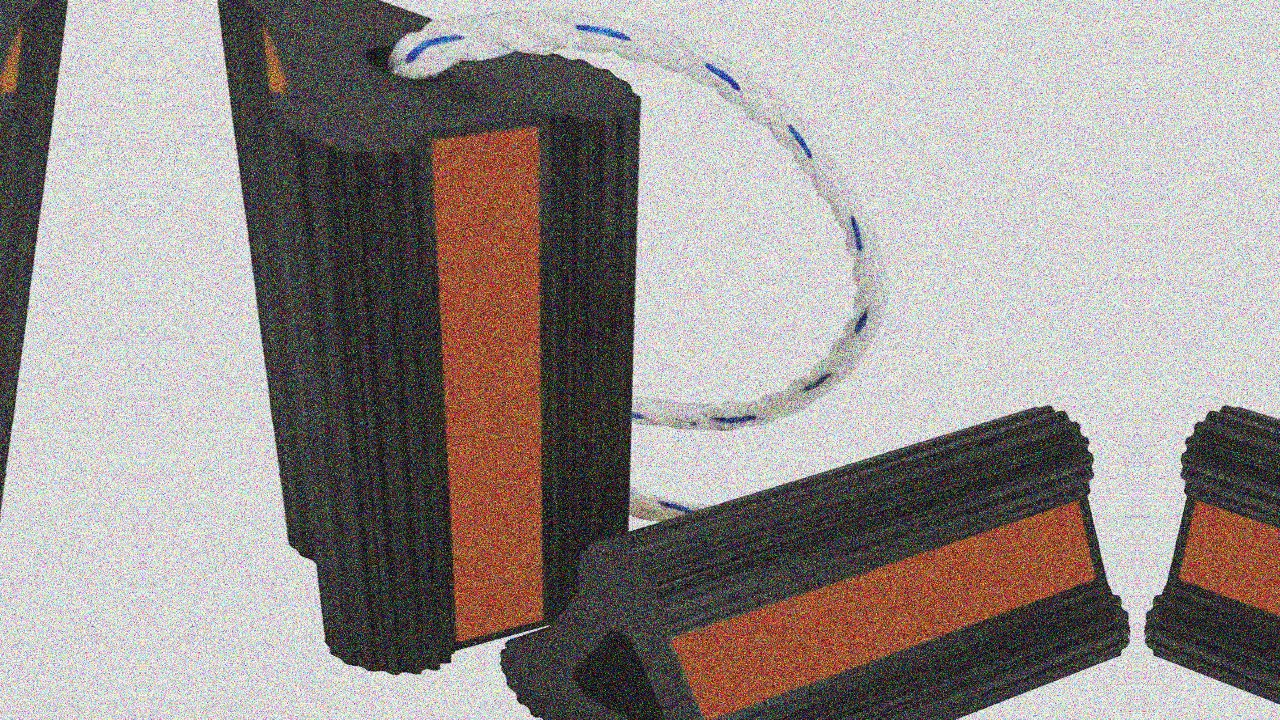chock: (142, 0, 778, 705), (350, 299, 1138, 720), (0, 0, 142, 705), (1138, 299, 1280, 720)
